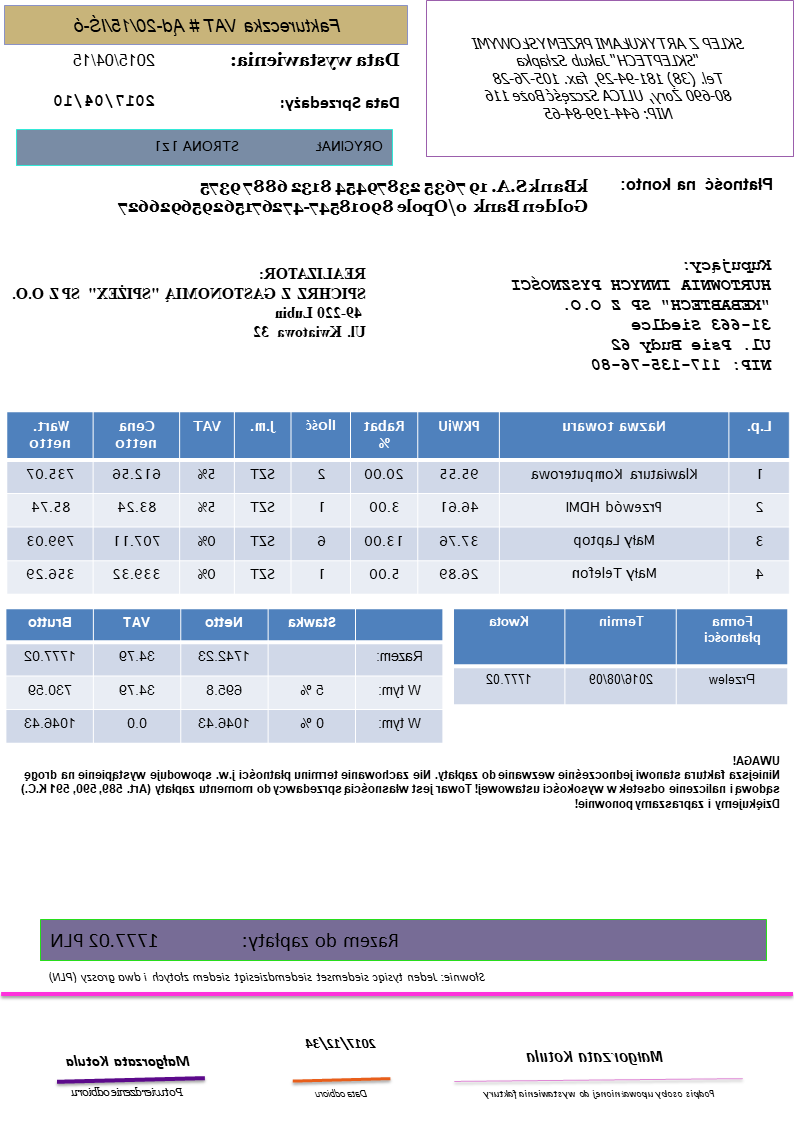Table: (5, 408, 792, 597), (5, 606, 447, 746), (452, 607, 789, 705)
TextBox: (17, 749, 784, 814), (508, 253, 778, 374), (8, 262, 371, 342), (468, 27, 749, 127), (114, 173, 593, 218), (49, 924, 404, 952), (42, 967, 489, 986), (67, 11, 346, 36), (152, 134, 386, 158), (226, 45, 403, 71), (479, 1085, 722, 1102), (616, 173, 780, 197), (522, 1041, 667, 1068), (273, 90, 406, 115), (60, 1049, 197, 1071), (49, 87, 159, 112), (71, 45, 161, 73), (67, 1084, 190, 1101), (303, 1033, 380, 1053), (311, 1085, 372, 1104)
